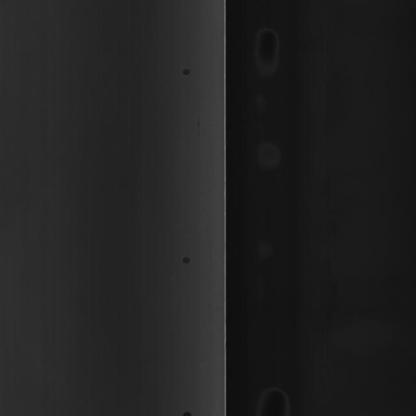oil_spot: (175, 56, 194, 94), (182, 240, 198, 277)
